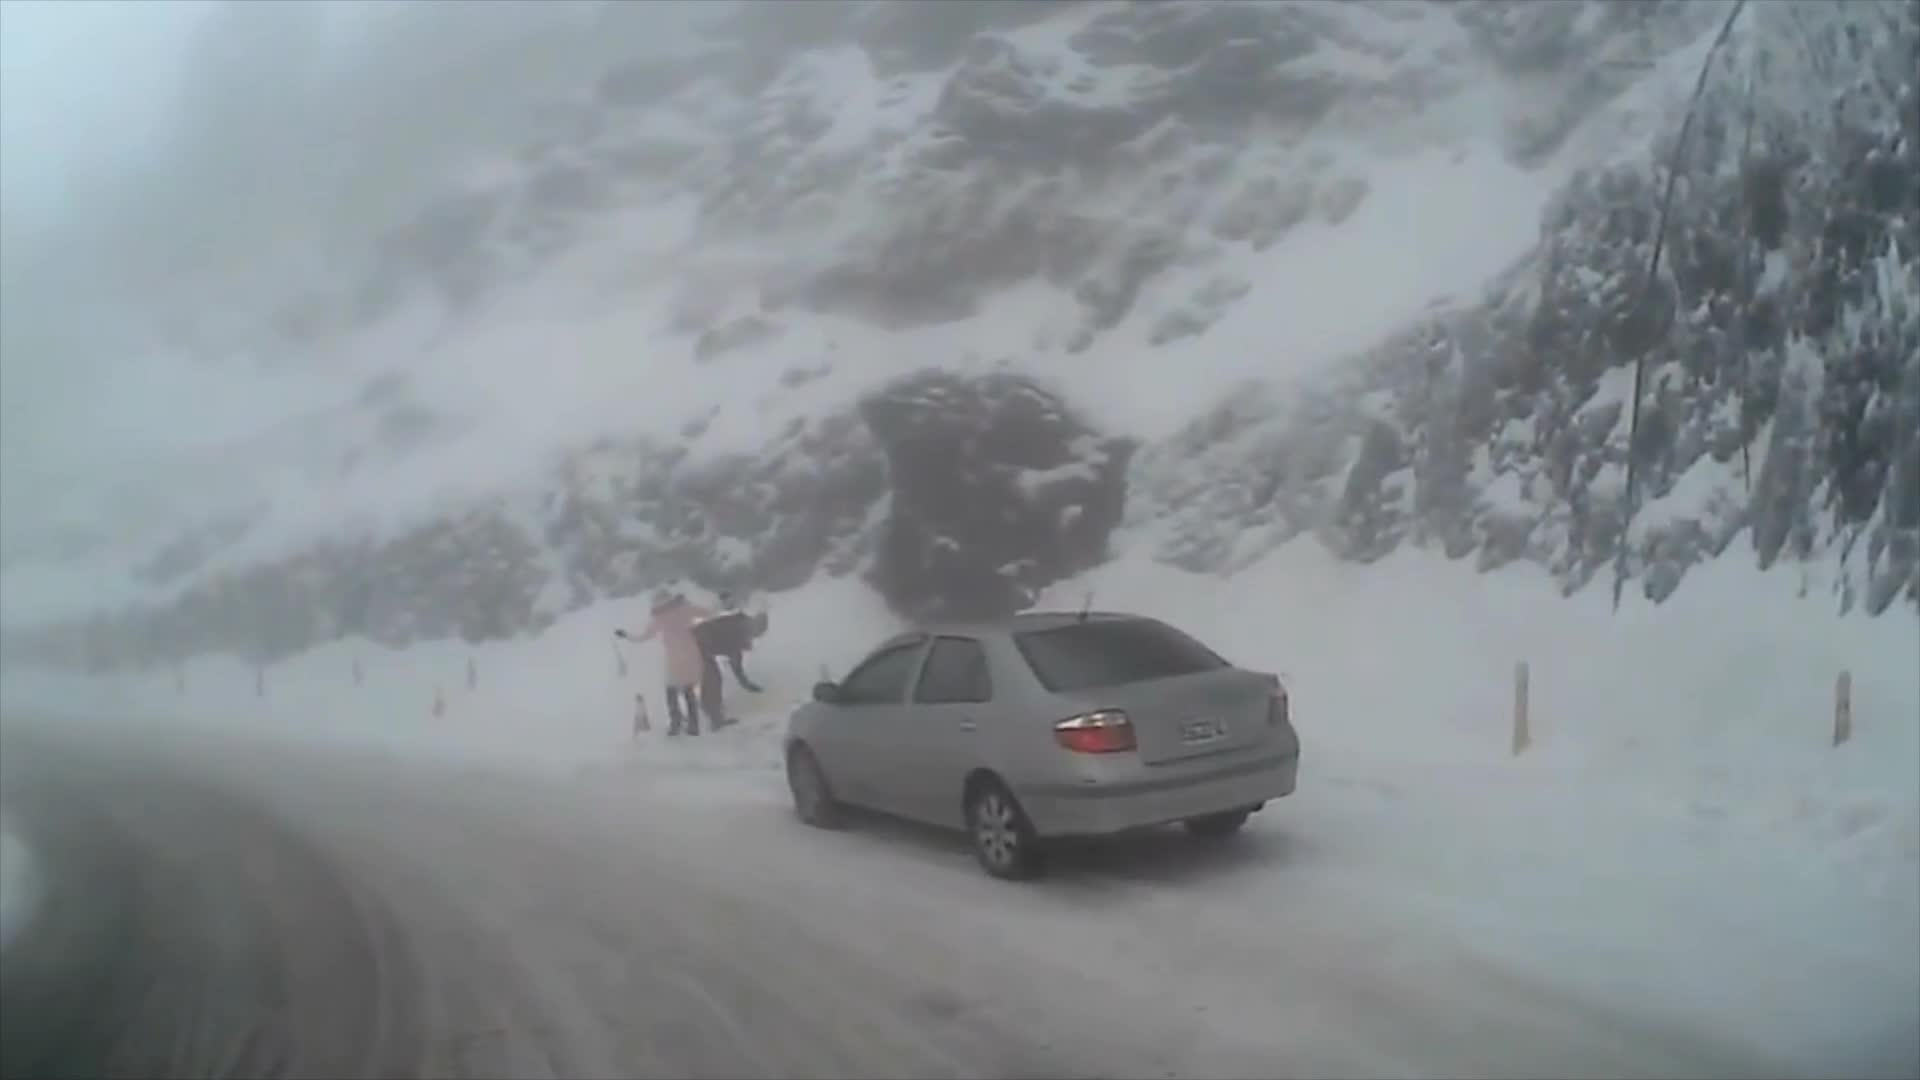pedestrian: (612, 584, 722, 747)
vehicle: (782, 612, 1300, 886)
